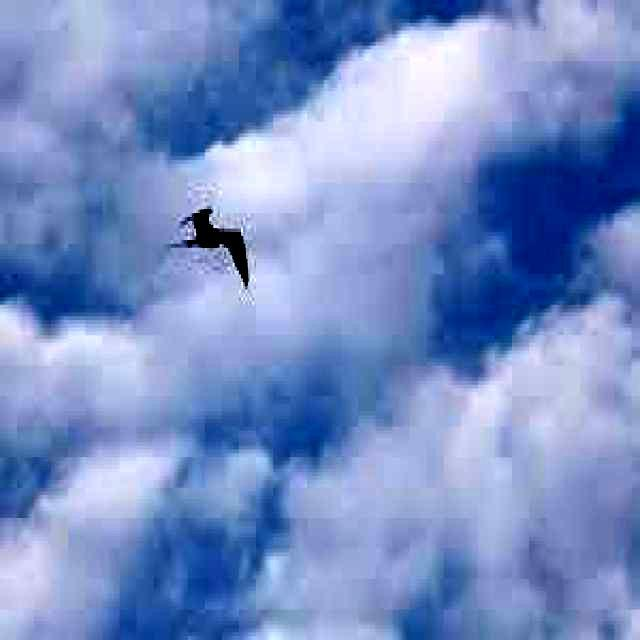bird: (170, 198, 256, 292)
